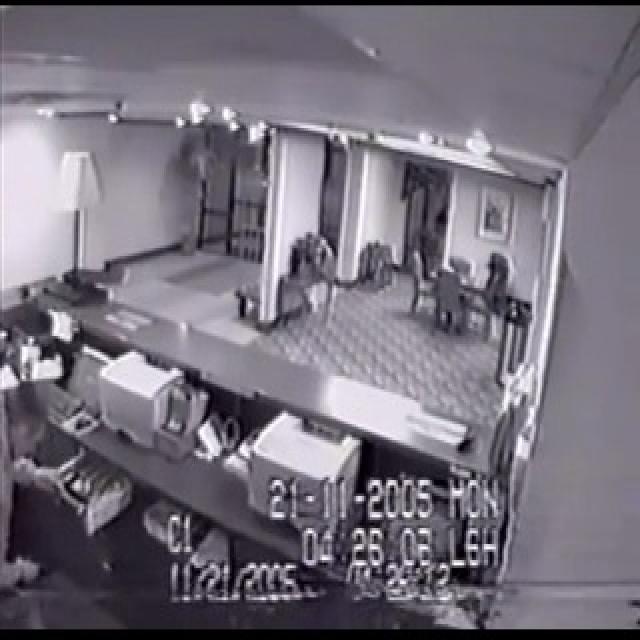thief: (0, 324, 108, 632)
